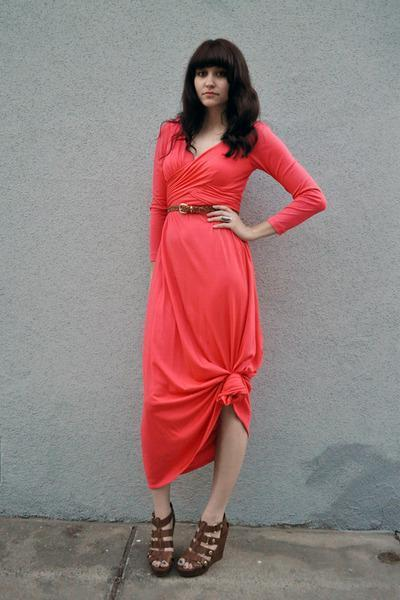dress: (123, 115, 328, 491)
